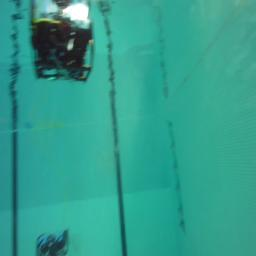back: (31, 1, 93, 82)
front: (36, 227, 69, 256)
